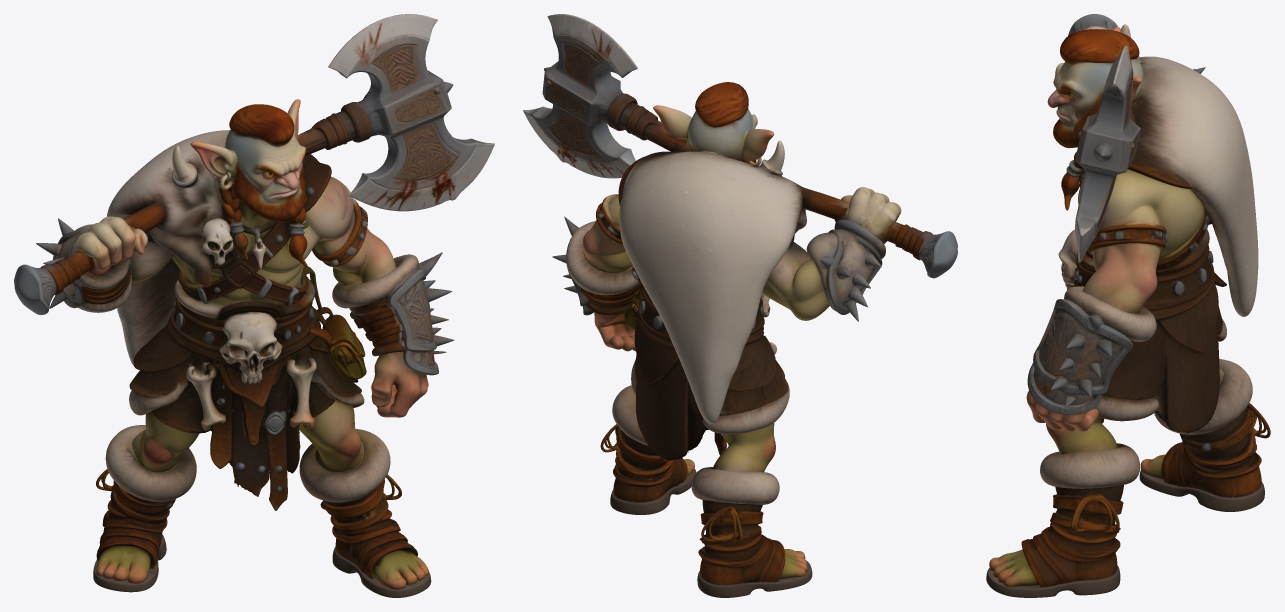
The model's file is halfling_barbarian_full_male_01.glb.
The picture shows the model from 3 angles, left to right: view 1: azimuth 30°, elevation 25°; view 2: azimuth 150°, elevation 25°; view 3: azimuth 270°, elevation 25°; orthographic projection. The views are drawn at different scales.
Visible parts, largest first — view 1: material; view 2: material; view 3: material.
Part boxes in pixels (x1,y1,x2,y2): material: (14, 14, 494, 597); material: (523, 14, 957, 597); material: (986, 14, 1270, 597).
Bounding box in the file's own units: 0.9158 × 0.9733 × 0.4535.
1 material, 1 textured.
